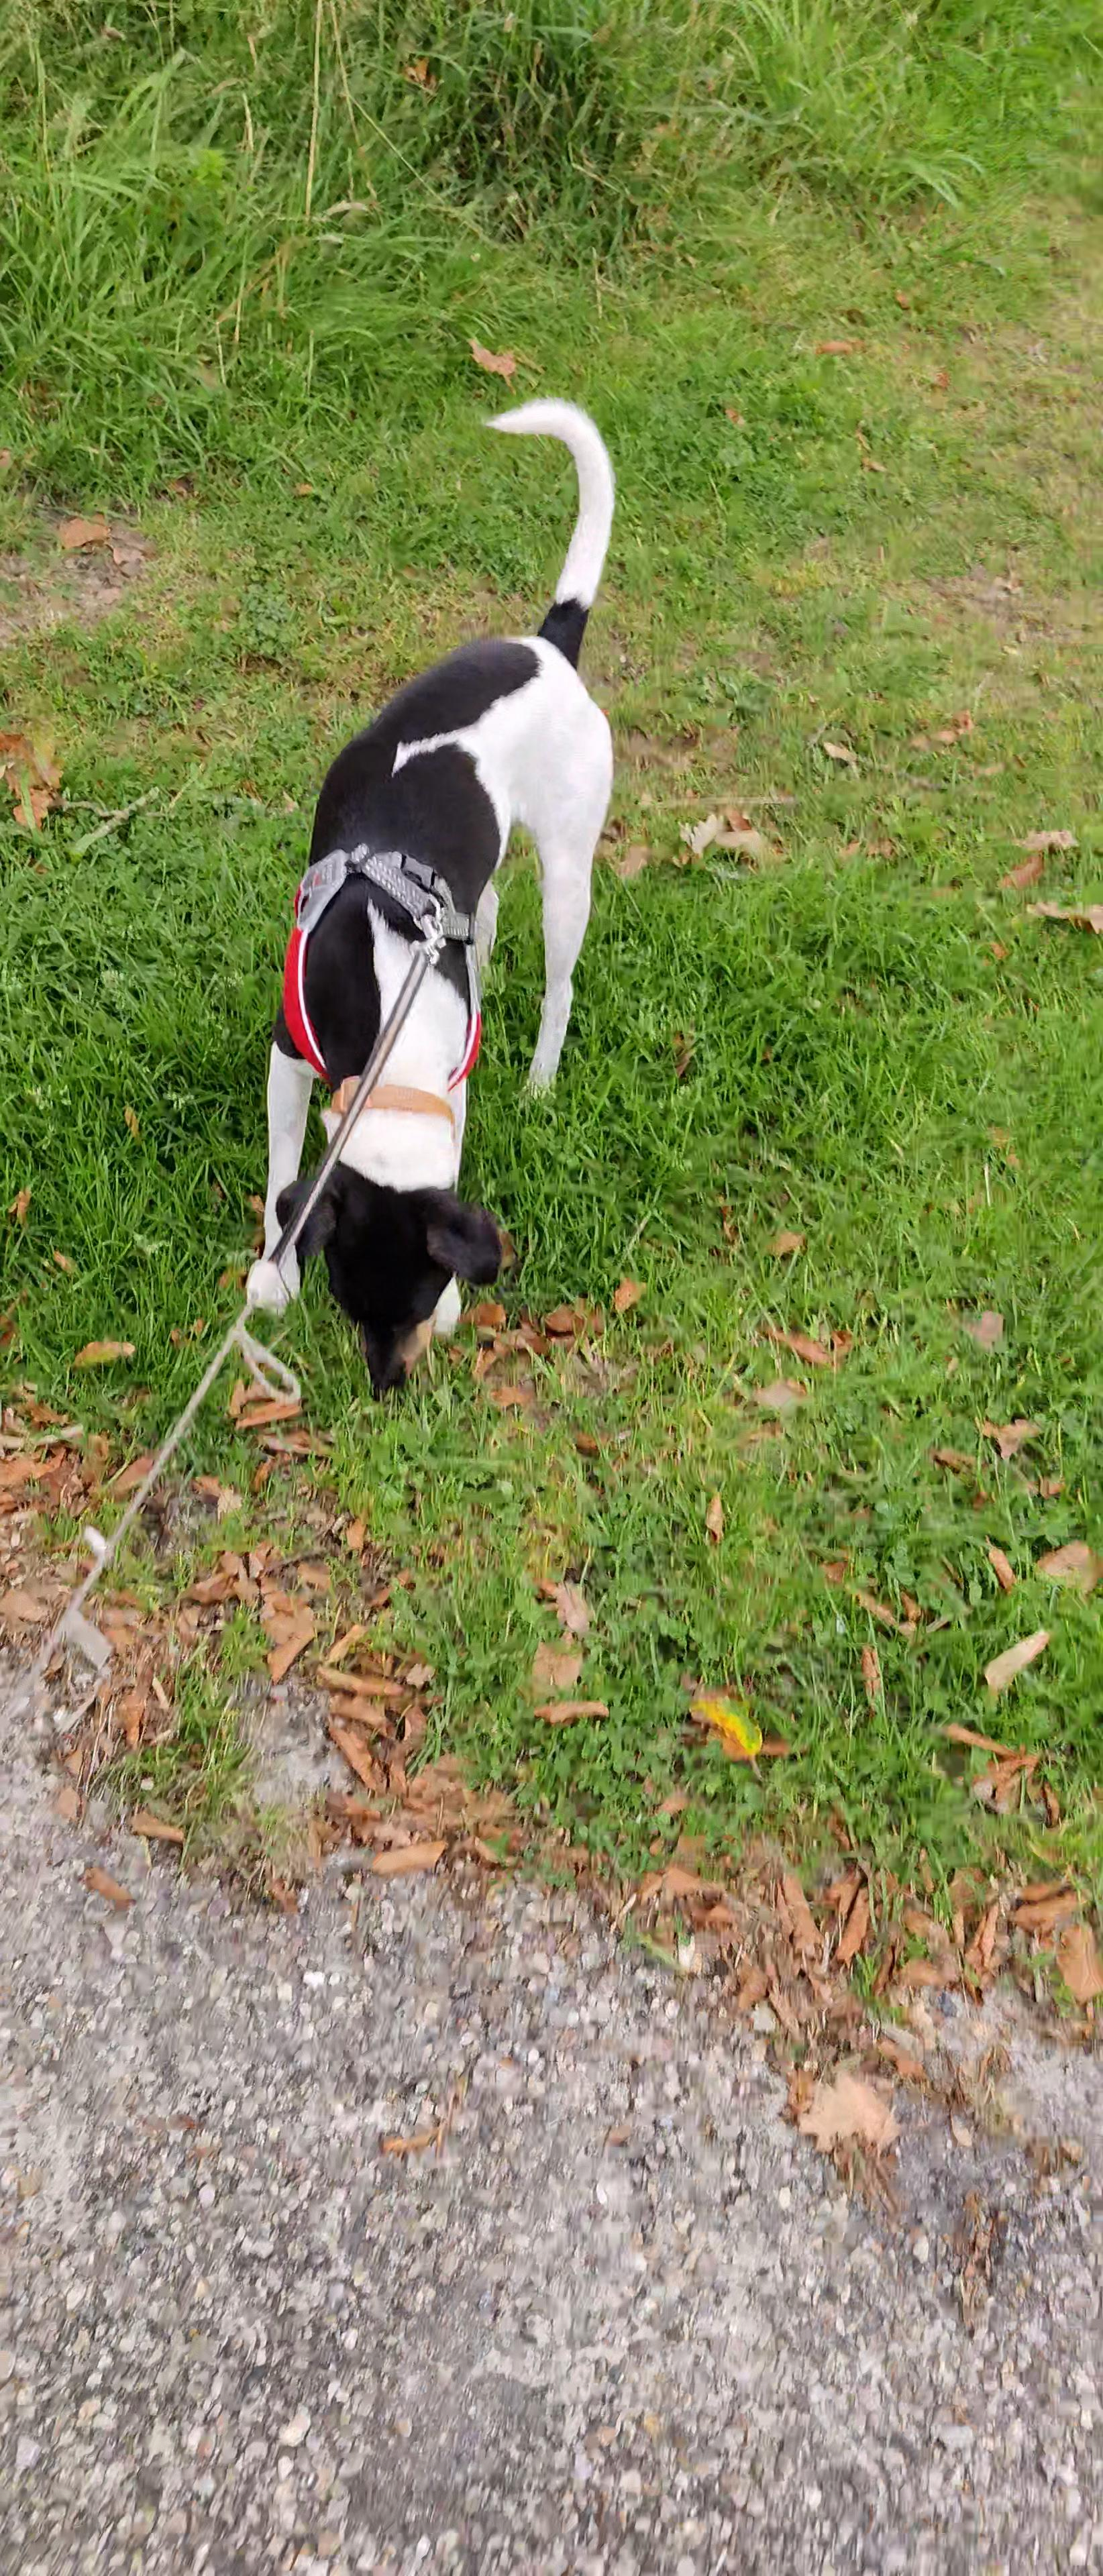Dog: (197, 373, 658, 1439)
